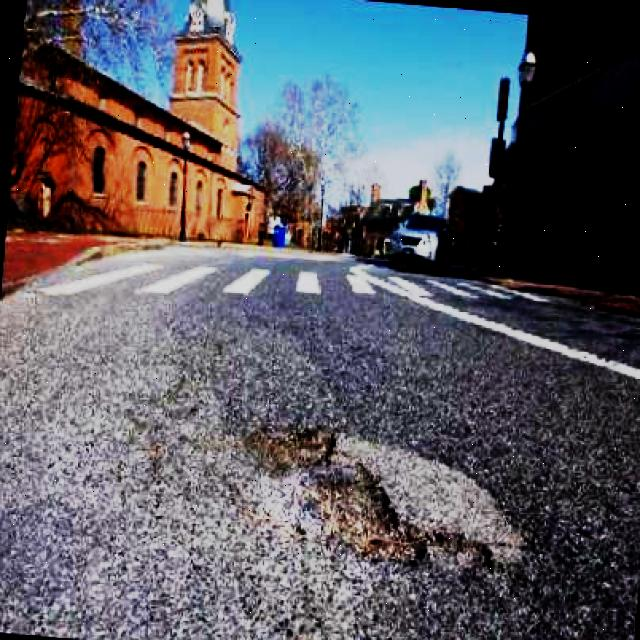pothole: (248, 419, 494, 570)
